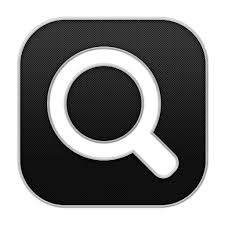searchIcon: (43, 44, 180, 181)
